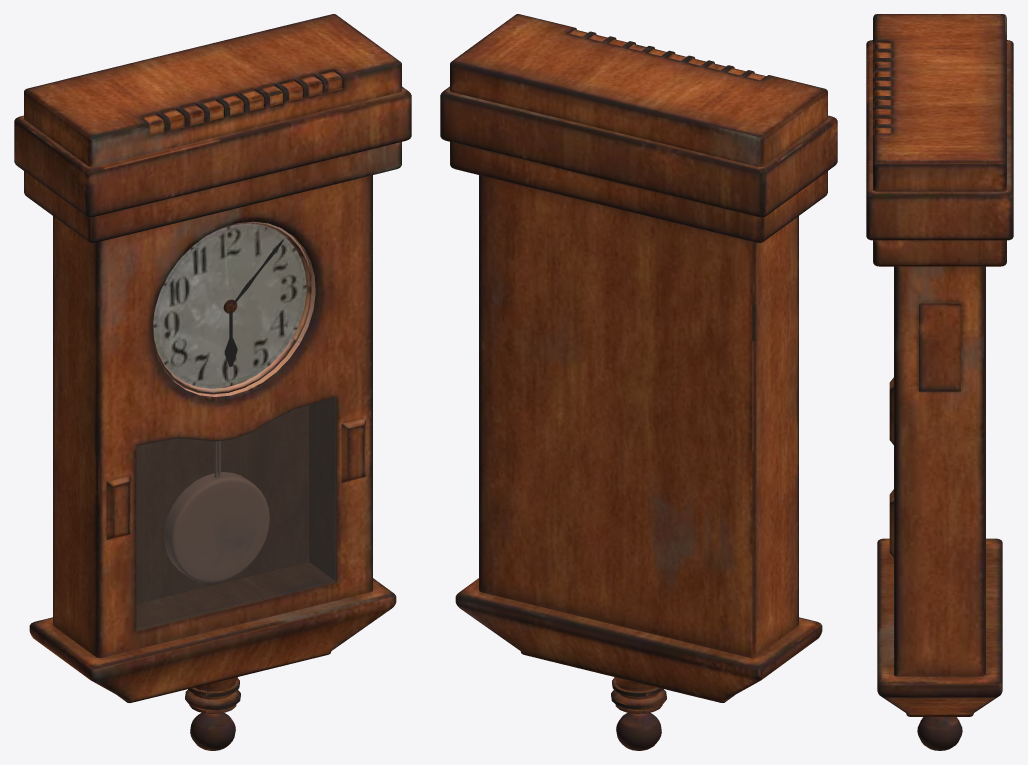
The model's file is vintage_wall_clock.glb.
3 views of the same model, side by side, from view 1: azimuth 30°, elevation 25°; view 2: azimuth 150°, elevation 25°; view 3: azimuth 270°, elevation 25° (orthographic).
Parts seen in each view (by area): view 1: antique, glass, bong; view 2: antique; view 3: antique.
Part boxes in pixels (left/top/right/bottom): antique: left=14, top=14, right=411, bottom=750; glass: left=136, top=396, right=336, bottom=630; bong: left=164, top=441, right=269, bottom=582; antique: left=440, top=14, right=837, bottom=750; antique: left=866, top=14, right=1013, bottom=750.
Size of the model in its own units: 55.33 by 110 by 22.12.
Materials: 3 (2 with a texture image).
